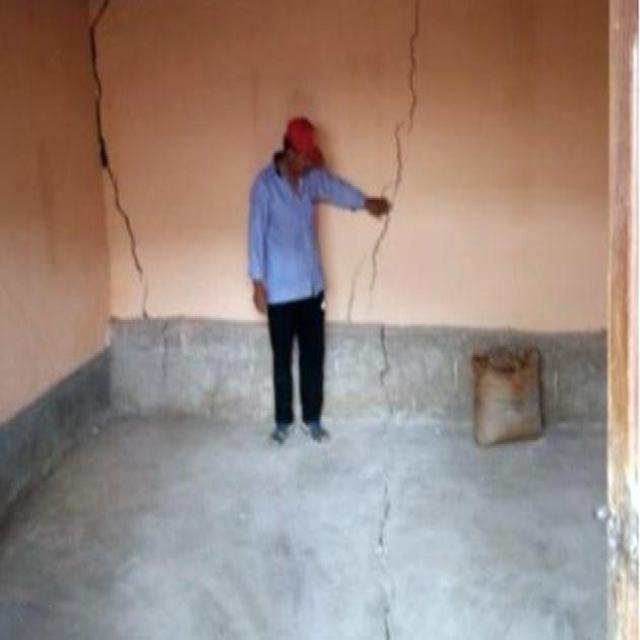crack: (86, 0, 139, 282), (370, 114, 405, 291), (406, 0, 423, 138), (378, 320, 390, 408)
